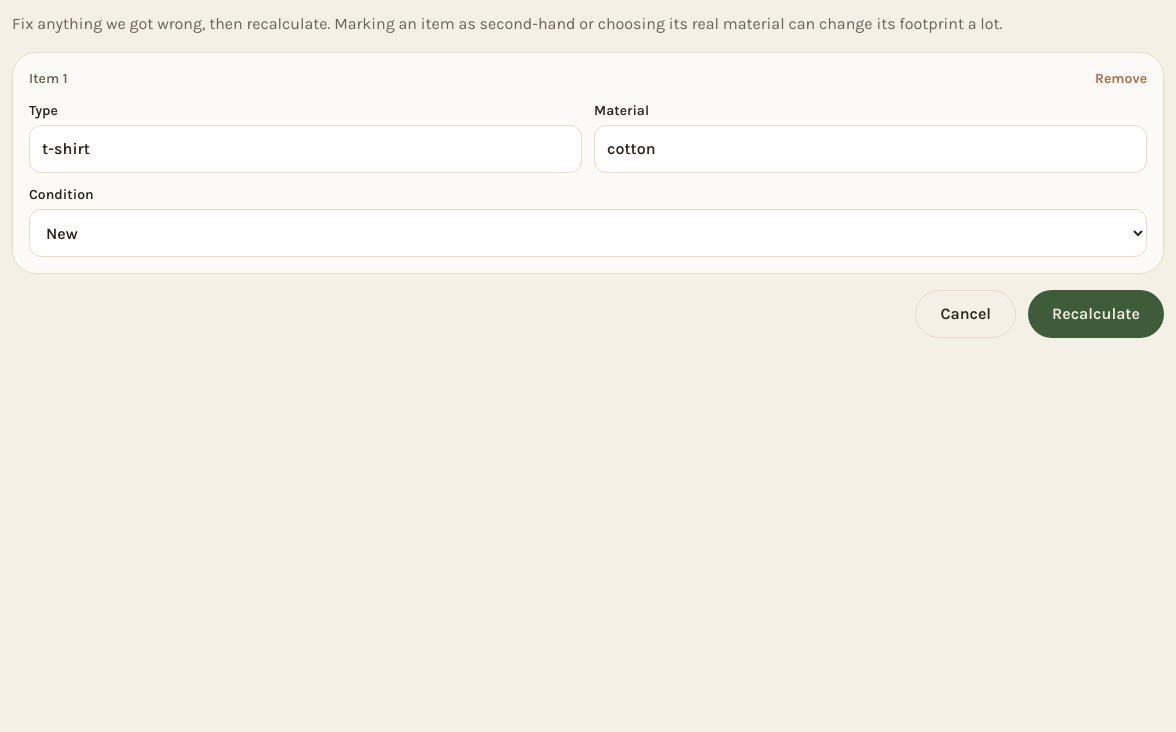
Test case: shows a retryable error when recalculating fails
The image size is (1176, 732).
Step 1. Click the button "Recalculate" → (1096, 314), box [1028,290,1164,338]
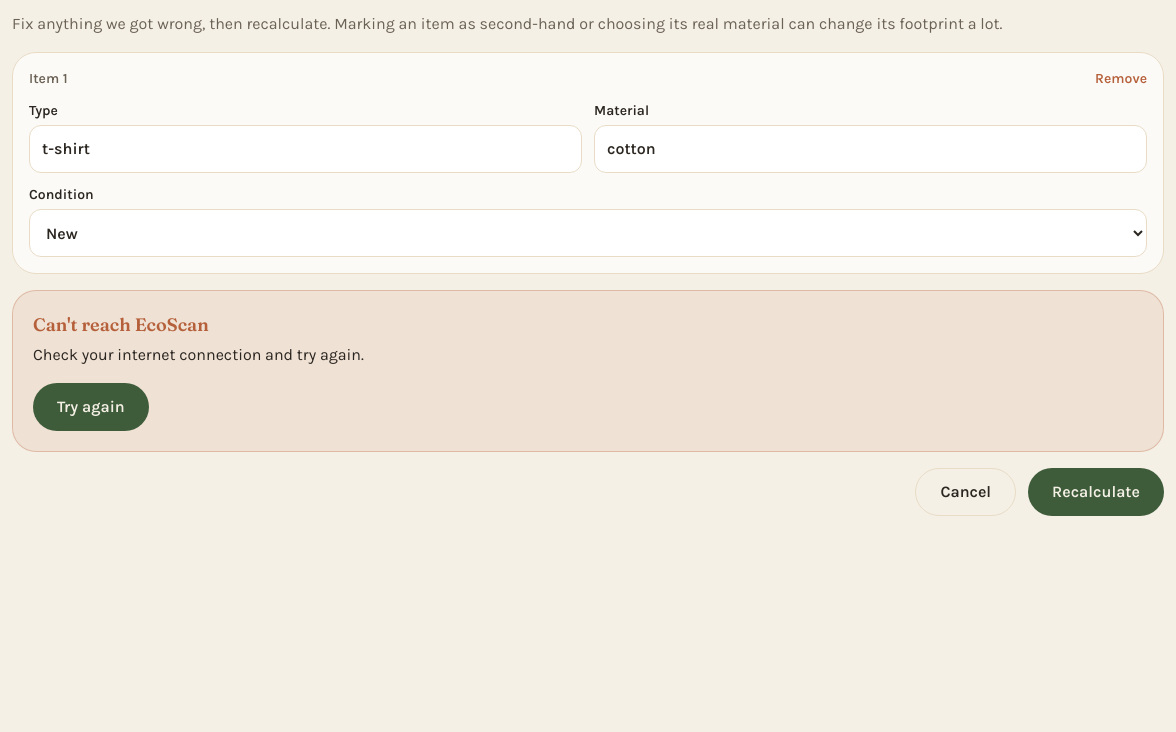
Result: the text "Can't reach EcoScan" is shown at [33,313,209,336]
Result: the button "Try again" is shown at [33,383,149,431]
